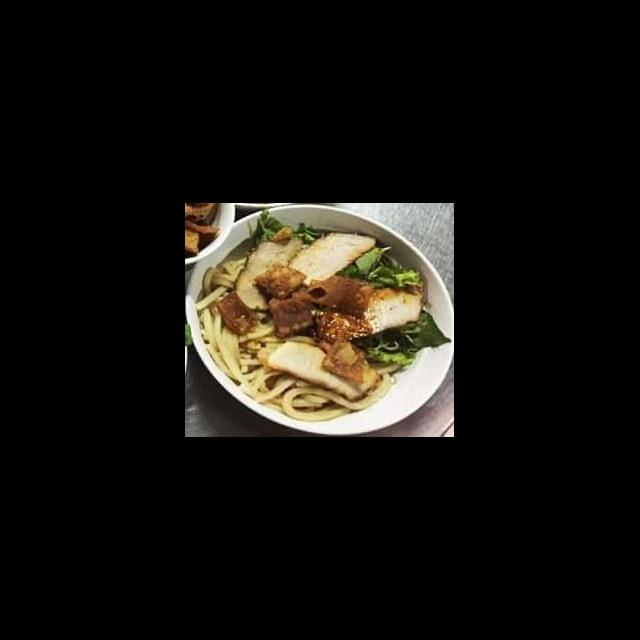banh da: (304, 273, 376, 318), (320, 334, 370, 384), (266, 294, 318, 341), (250, 261, 308, 300), (215, 290, 262, 337)
mi: (196, 303, 284, 384), (238, 371, 352, 422), (194, 250, 250, 313)
mi quang: (186, 219, 454, 433)
thit heo: (264, 333, 384, 403), (312, 284, 424, 346), (232, 233, 308, 314), (280, 229, 378, 289)
